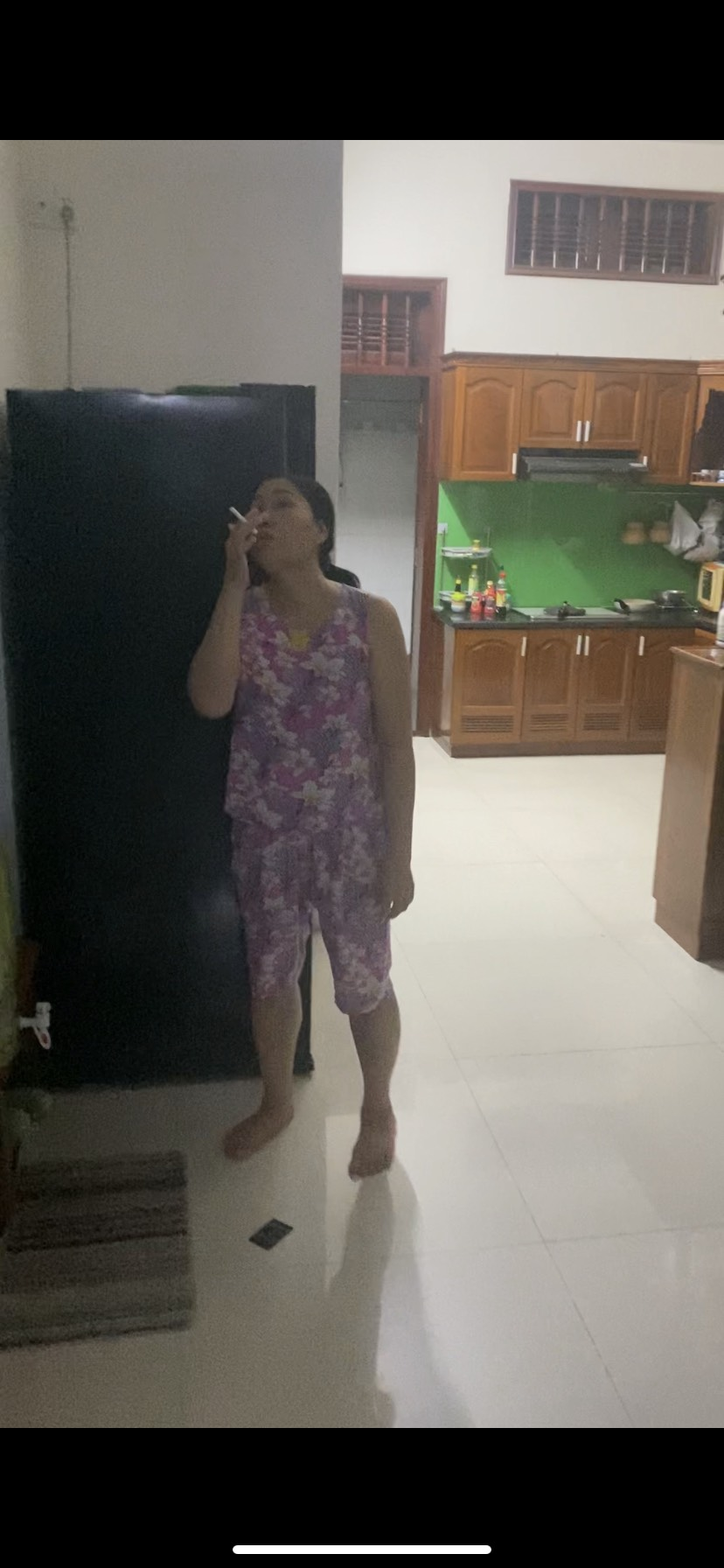cigarette: (225, 501, 245, 523)
person: (204, 466, 417, 1191)
